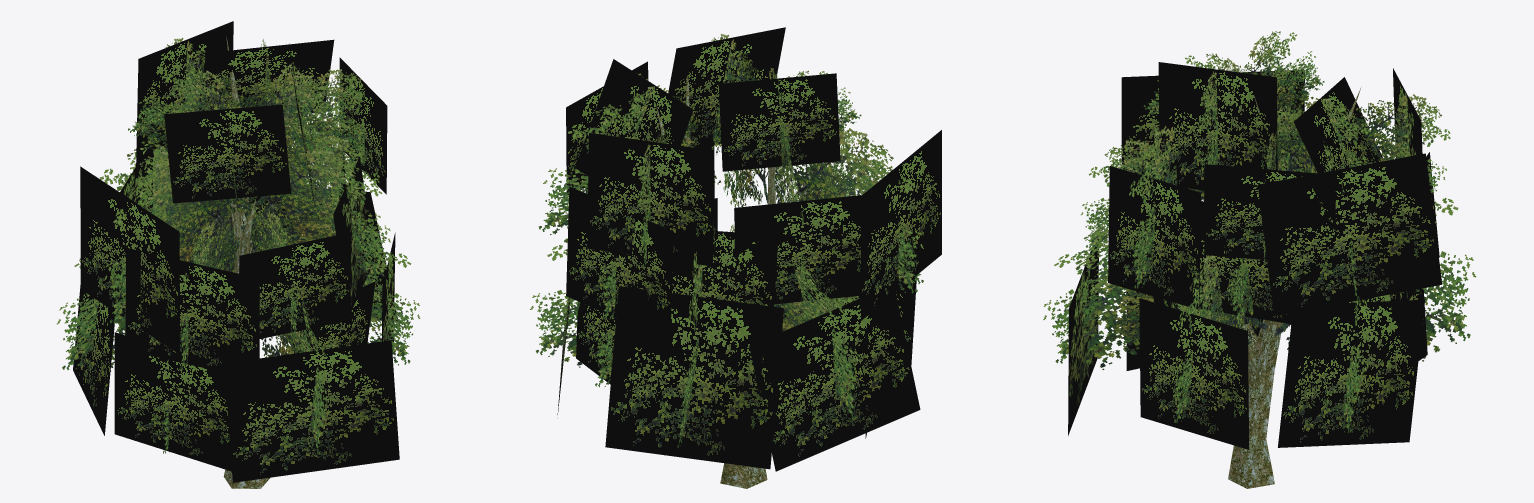
Rendered from stage-east-p2-84.glb.
The picture shows the model from 3 angles, left to right: view 1: azimuth 30°, elevation 25°; view 2: azimuth 150°, elevation 25°; view 3: azimuth 270°, elevation 25°; orthographic projection. The views are drawn at different scales.
Bounding box in the file's own units: 22.55 × 25.24 × 26.7.
Materials: 3 (3 with a texture image).
